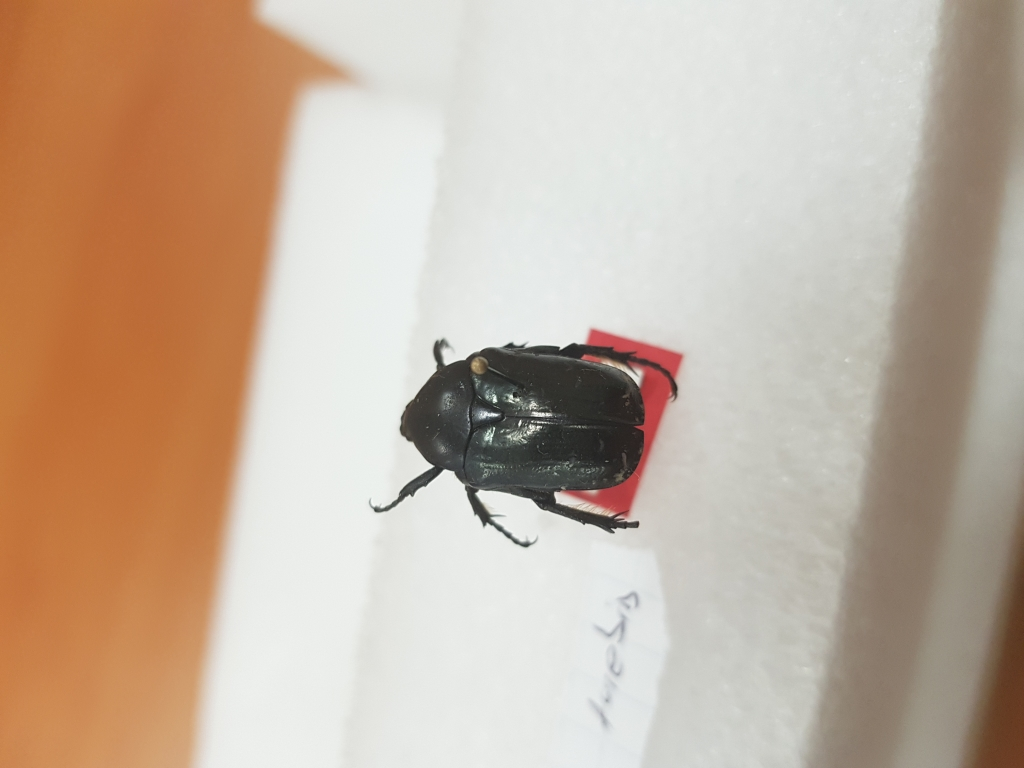Protaetia_funebris: (360, 333, 681, 556)
